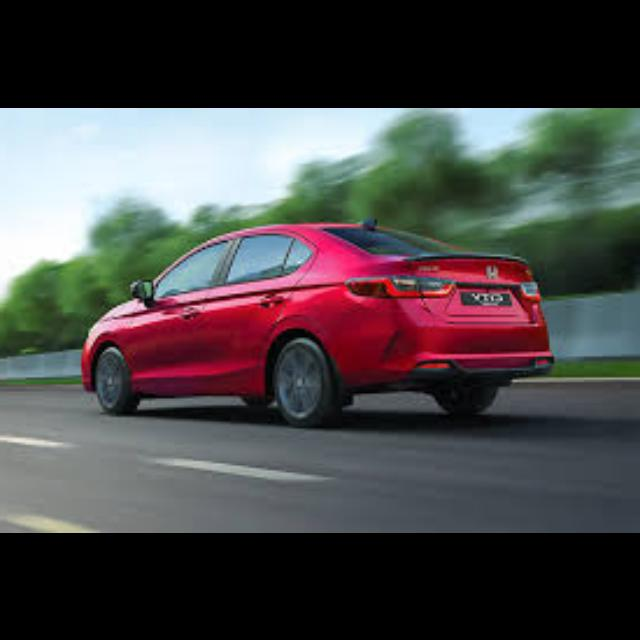vehicles: (81, 214, 565, 436)
